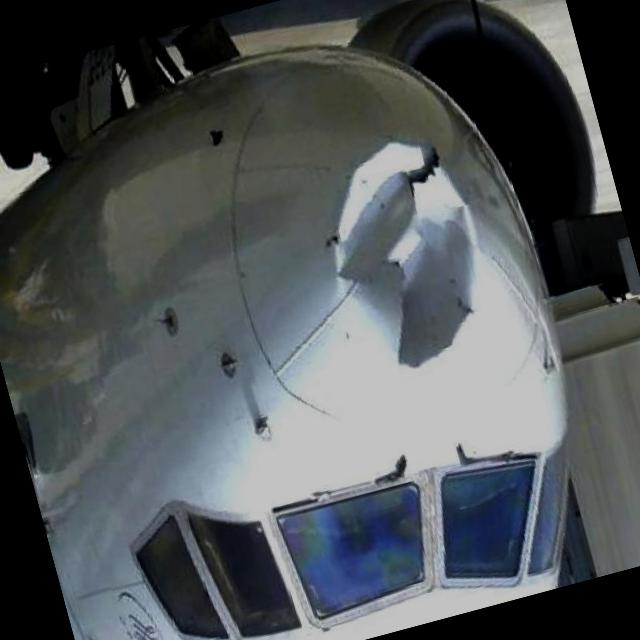dent: (305, 124, 506, 381)
